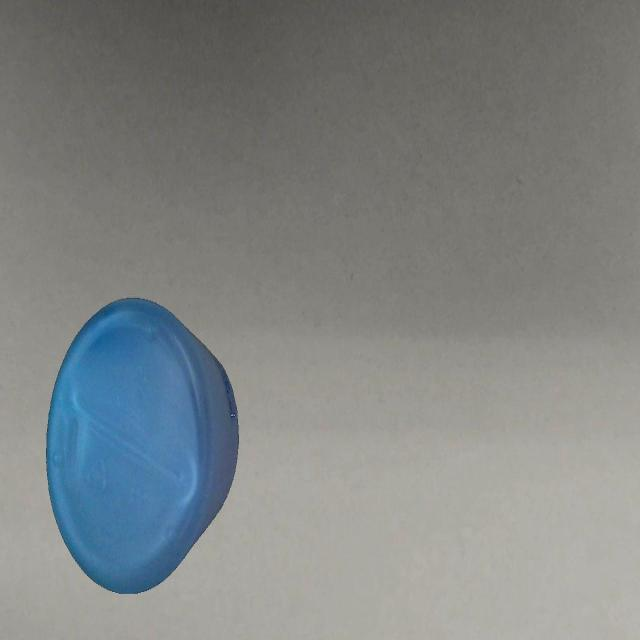bottle: (46, 295, 240, 592)
